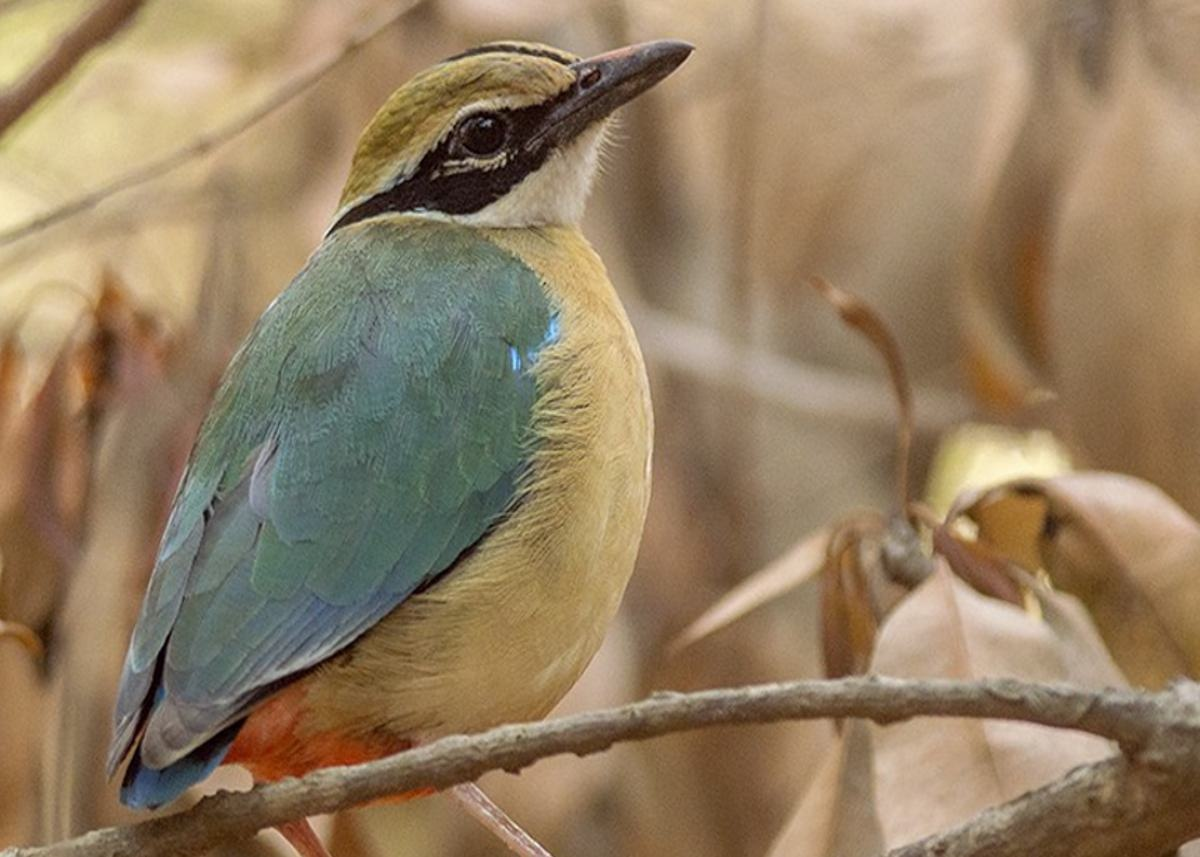pitta: (100, 10, 743, 791)
